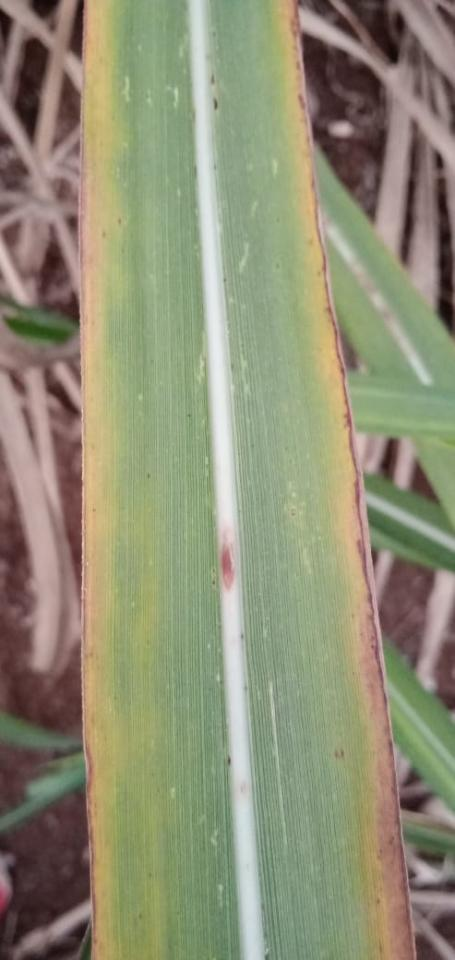RedRot: (221, 538, 233, 591)
Rust: (213, 96, 218, 111), (193, 166, 198, 178), (210, 74, 214, 85), (101, 231, 107, 237), (117, 217, 121, 225)
Yellow: (268, 0, 415, 959), (82, 0, 164, 959)
